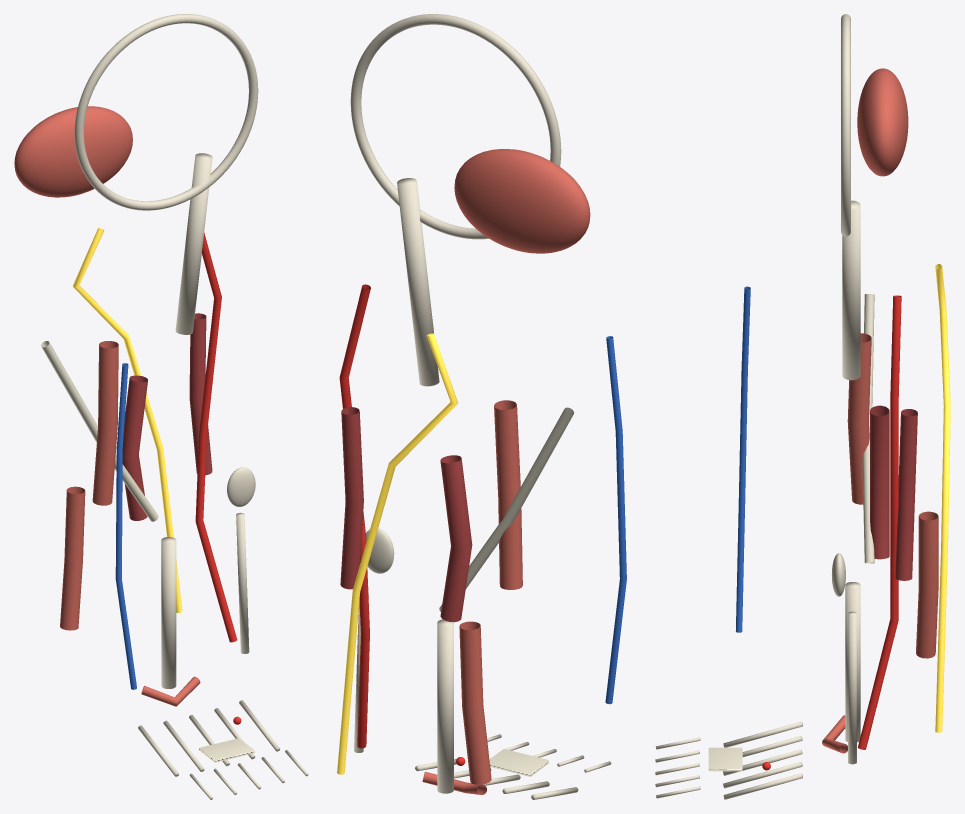
The model's file is membre_inferieur_premium.glb.
3 views of the same model, side by side, from view 1: azimuth 30°, elevation 25°; view 2: azimuth 150°, elevation 25°; view 3: azimuth 270°, elevation 25° (orthographic). The views are drawn at different scales.
Visible parts, largest first — view 1: MUSCLE_grand_fessier, BONE_bassin_os_coxal, VESSEL_artere_iliaque_femorale_poplitee_tibiale, MUSCLE_quadriceps_droit_femoral, BONE_femur, MUSCLE_gastrocnemien_jumeaux, NERVE_plexus_lombo_sacre_sciatique, BONE_tibia, MUSCLE_adducteurs, VESSEL_grande_saphene, MUSCLE_ischio_jambiers, MUSCLE_sartorius (+4 smaller); view 2: MUSCLE_grand_fessier, BONE_bassin_os_coxal, BONE_femur, MUSCLE_quadriceps_droit_femoral, NERVE_plexus_lombo_sacre_sciatique, MUSCLE_adducteurs, MUSCLE_gastrocnemien_jumeaux, MUSCLE_ischio_jambiers, VESSEL_artere_iliaque_femorale_poplitee_tibiale, BONE_tibia, VESSEL_grande_saphene, MUSCLE_sartorius (+4 smaller); view 3: MUSCLE_grand_fessier, VESSEL_artere_iliaque_femorale_poplitee_tibiale, NERVE_plexus_lombo_sacre_sciatique, BONE_femur, MUSCLE_gastrocnemien_jumeaux, MUSCLE_ischio_jambiers, MUSCLE_adducteurs, MUSCLE_quadriceps_droit_femoral, VESSEL_grande_saphene, BONE_bassin_os_coxal, MUSCLE_sartorius, BONE_tibia (+2 smaller).
Part boxes in pixels (x1=…): MUSCLE_grand_fessier: x1=14, y1=106, x2=132, y2=197; BONE_bassin_os_coxal: x1=74, y1=14, x2=258, y2=210; VESSEL_artere_iliaque_femorale_poplitee_tibiale: x1=195, y1=233, x2=237, y2=642; MUSCLE_quadriceps_droit_femoral: x1=92, y1=341, x2=118, y2=505; BONE_femur: x1=175, y1=153, x2=212, y2=334; MUSCLE_gastrocnemien_jumeaux: x1=60, y1=486, x2=85, y2=630; NERVE_plexus_lombo_sacre_sciatique: x1=73, y1=227, x2=182, y2=612; BONE_tibia: x1=161, y1=537, x2=176, y2=688; MUSCLE_adducteurs: x1=122, y1=375, x2=147, y2=520; VESSEL_grande_saphene: x1=115, y1=363, x2=136, y2=689; MUSCLE_ischio_jambiers: x1=189, y1=313, x2=212, y2=475; MUSCLE_sartorius: x1=41, y1=341, x2=158, y2=521; MUSCLE_grand_fessier: x1=454, y1=149, x2=590, y2=253; BONE_bassin_os_coxal: x1=350, y1=14, x2=561, y2=239; BONE_femur: x1=397, y1=178, x2=439, y2=386; MUSCLE_quadriceps_droit_femoral: x1=494, y1=400, x2=522, y2=589; NERVE_plexus_lombo_sacre_sciatique: x1=337, y1=333, x2=457, y2=774; MUSCLE_adducteurs: x1=440, y1=455, x2=472, y2=622; MUSCLE_gastrocnemien_jumeaux: x1=459, y1=621, x2=491, y2=784; MUSCLE_ischio_jambiers: x1=340, y1=407, x2=363, y2=589; VESSEL_artere_iliaque_femorale_poplitee_tibiale: x1=339, y1=284, x2=370, y2=748; BONE_tibia: x1=437, y1=619, x2=453, y2=793; VESSEL_grande_saphene: x1=605, y1=336, x2=626, y2=704; MUSCLE_sartorius: x1=439, y1=407, x2=573, y2=611; MUSCLE_grand_fessier: x1=857, y1=68, x2=908, y2=176; VESSEL_artere_iliaque_femorale_poplitee_tibiale: x1=858, y1=295, x2=901, y2=749; NERVE_plexus_lombo_sacre_sciatique: x1=935, y1=264, x2=950, y2=732; BONE_femur: x1=842, y1=200, x2=860, y2=380; MUSCLE_gastrocnemien_jumeaux: x1=916, y1=511, x2=938, y2=658; MUSCLE_ischio_jambiers: x1=895, y1=409, x2=917, y2=580; MUSCLE_adducteurs: x1=870, y1=405, x2=889, y2=559; MUSCLE_quadriceps_droit_femoral: x1=847, y1=333, x2=871, y2=504; VESSEL_grande_saphene: x1=735, y1=286, x2=750, y2=632; BONE_bassin_os_coxal: x1=841, y1=14, x2=850, y2=236; MUSCLE_sartorius: x1=862, y1=294, x2=874, y2=563; BONE_tibia: x1=845, y1=582, x2=860, y2=742.
Size of the model in its own units: 1.93 by 5.82 by 2.08.
